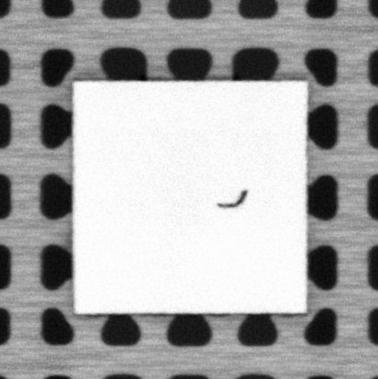DIE_INK: (216, 189, 248, 209)
